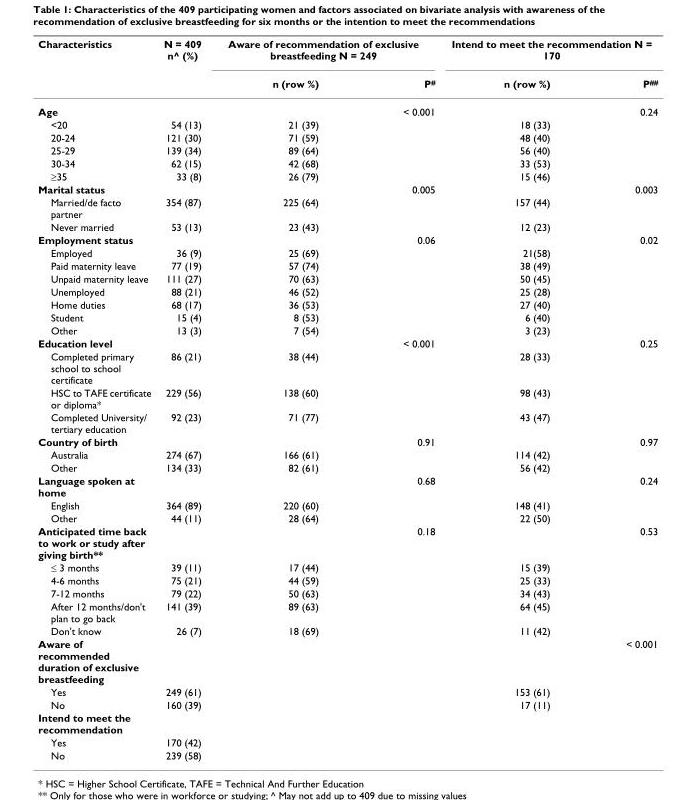table: (37, 37, 657, 760)
table column: (214, 37, 360, 760), (442, 37, 587, 760), (37, 37, 156, 760), (360, 37, 442, 760), (587, 37, 657, 760), (156, 37, 214, 760)
table column header: (37, 37, 657, 97)
table projected row header: (37, 710, 657, 735)
table row: (37, 636, 657, 684), (37, 349, 657, 385), (37, 524, 657, 560), (37, 37, 657, 68), (37, 68, 657, 97), (37, 385, 657, 410), (37, 473, 657, 498), (37, 599, 657, 624), (37, 710, 657, 735), (37, 195, 657, 219), (37, 410, 657, 434), (37, 97, 657, 117), (37, 168, 657, 182), (37, 117, 657, 130), (37, 130, 657, 143), (37, 143, 657, 156), (37, 182, 657, 195), (37, 219, 657, 232), (37, 232, 657, 245), (37, 245, 657, 258), (37, 258, 657, 271), (37, 271, 657, 284), (37, 284, 657, 297), (37, 297, 657, 310), (37, 310, 657, 323), (37, 323, 657, 336), (37, 336, 657, 349), (37, 434, 657, 447), (37, 447, 657, 460), (37, 460, 657, 473), (37, 498, 657, 511), (37, 511, 657, 524), (37, 560, 657, 573), (37, 573, 657, 586), (37, 586, 657, 599), (37, 684, 657, 697), (37, 697, 657, 710), (37, 735, 657, 748), (37, 156, 657, 168), (37, 624, 657, 636), (37, 748, 657, 760)
table spanning cell: (37, 37, 156, 97), (214, 37, 442, 68), (442, 37, 657, 68), (156, 37, 214, 97)
